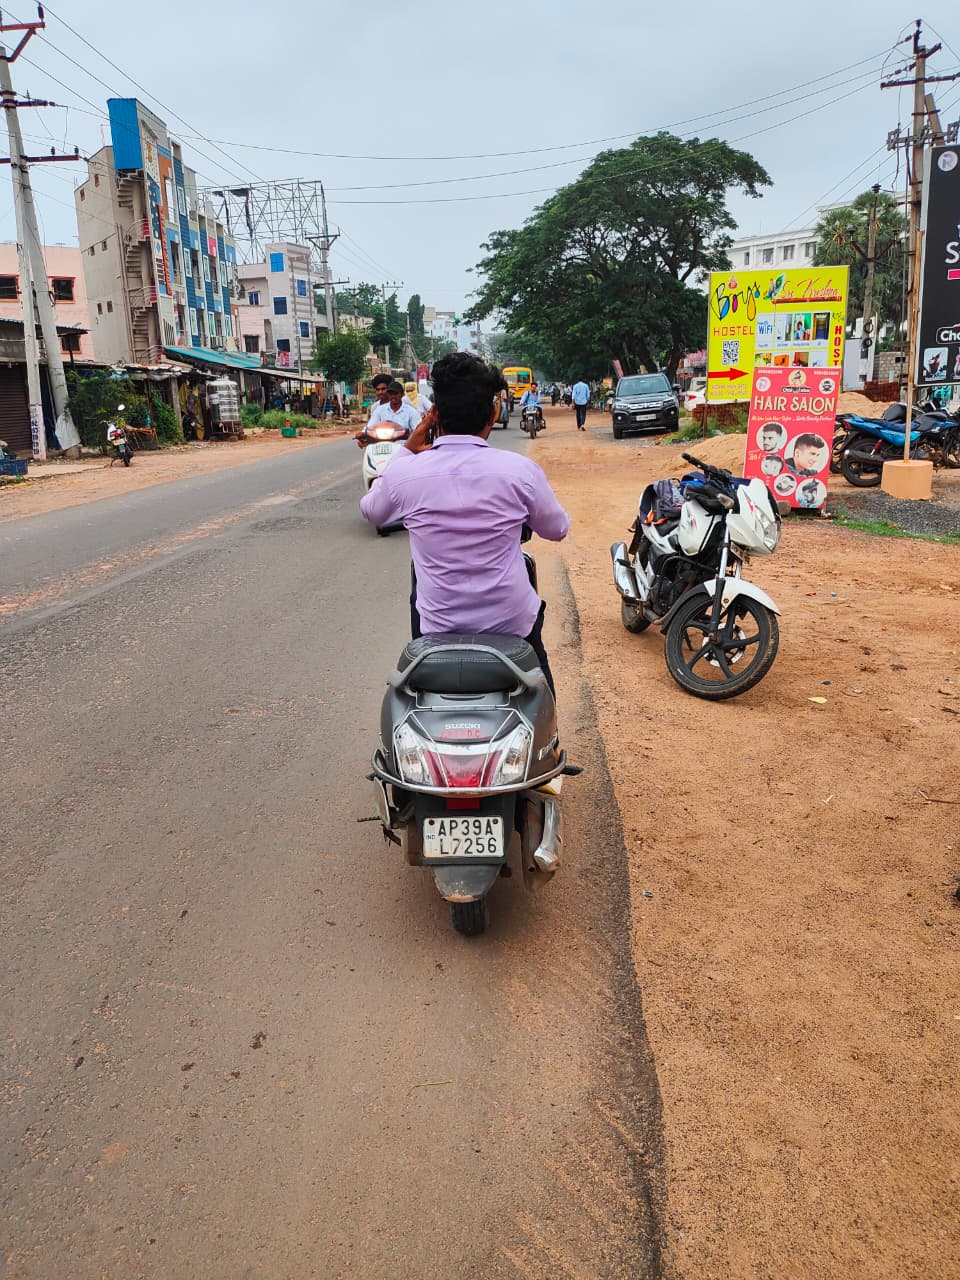mobile_usage: (393, 402, 444, 470)
no_helmet: (421, 341, 511, 470)
number_plate: (405, 806, 517, 872)
